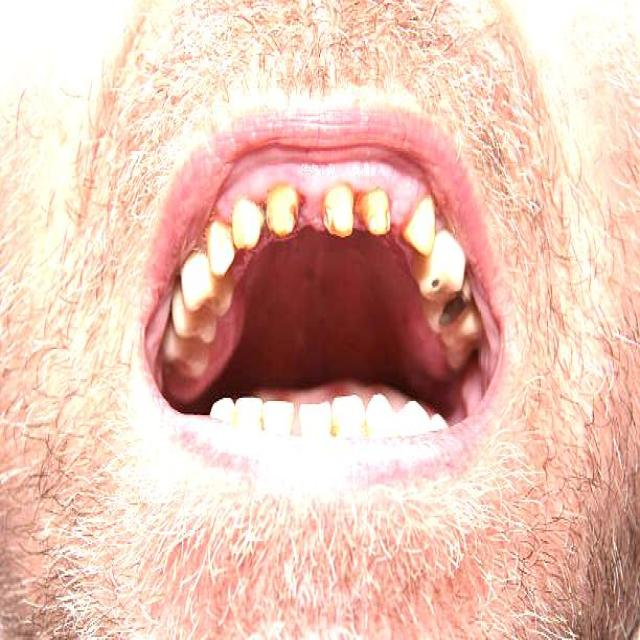caries: (264, 180, 302, 242), (320, 180, 356, 241), (357, 184, 395, 240), (438, 286, 469, 340), (421, 259, 446, 305)
